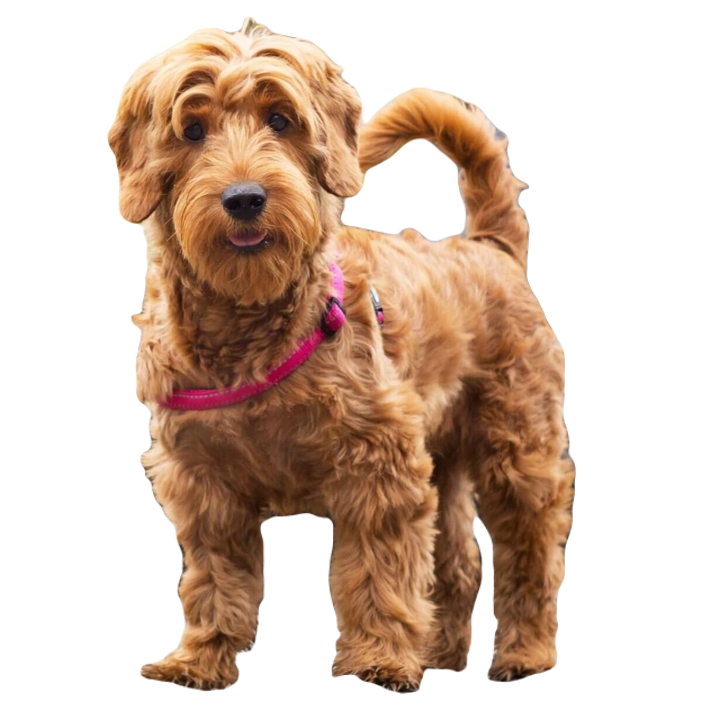Dog: (106, 16, 578, 696)
